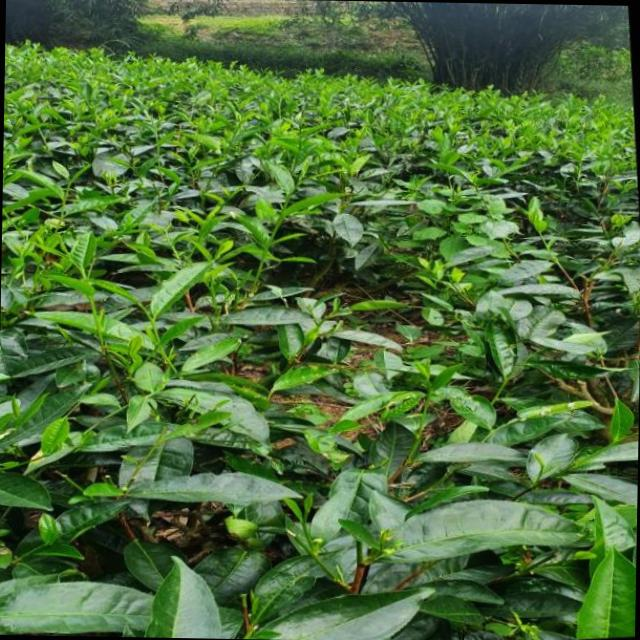Stem: (282, 198, 289, 210), (302, 524, 309, 536), (152, 323, 157, 335), (66, 182, 71, 190)
